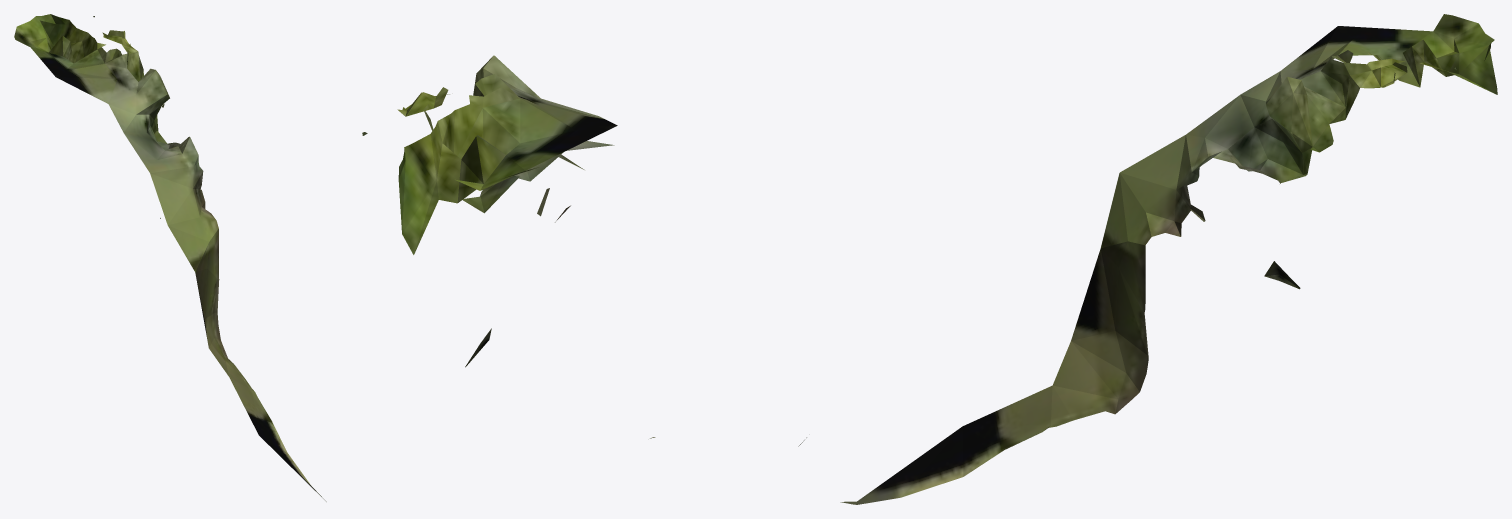
The picture shows the model from 3 angles, left to right: view 1: azimuth 30°, elevation 25°; view 2: azimuth 150°, elevation 25°; view 3: azimuth 270°, elevation 25°; orthographic projection. The views are drawn at different scales.
Bounding box in the file's own units: 4.07 × 13.75 × 19.02.
1 material, 1 textured.
